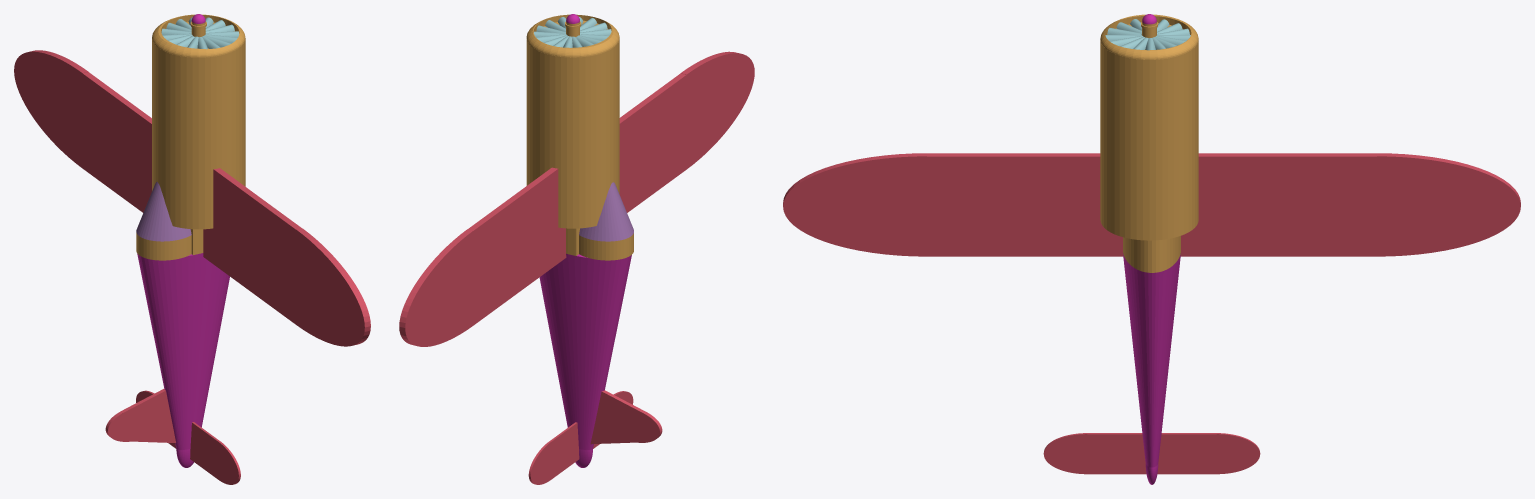
The model's file is FighterV1.glb.
3 renders of one model, left to right at view 1: azimuth 30°, elevation 25°; view 2: azimuth 150°, elevation 25°; view 3: azimuth 270°, elevation 25°, orthographic. The views are drawn at different scales.
Parts seen in each view (by area): view 1: Mesh_Mesh_head_geo.001_lambert2SG.001; view 2: Mesh_Mesh_head_geo.001_lambert2SG.001; view 3: Mesh_Mesh_head_geo.001_lambert2SG.001.
Boxes of the visible parts, x1,y1,x2,y2 form: Mesh_Mesh_head_geo.001_lambert2SG.001: [14, 14, 370, 484]; Mesh_Mesh_head_geo.001_lambert2SG.001: [399, 14, 754, 484]; Mesh_Mesh_head_geo.001_lambert2SG.001: [783, 14, 1520, 484].
Size of the model in its own units: 6.45 by 21.3 by 30.
